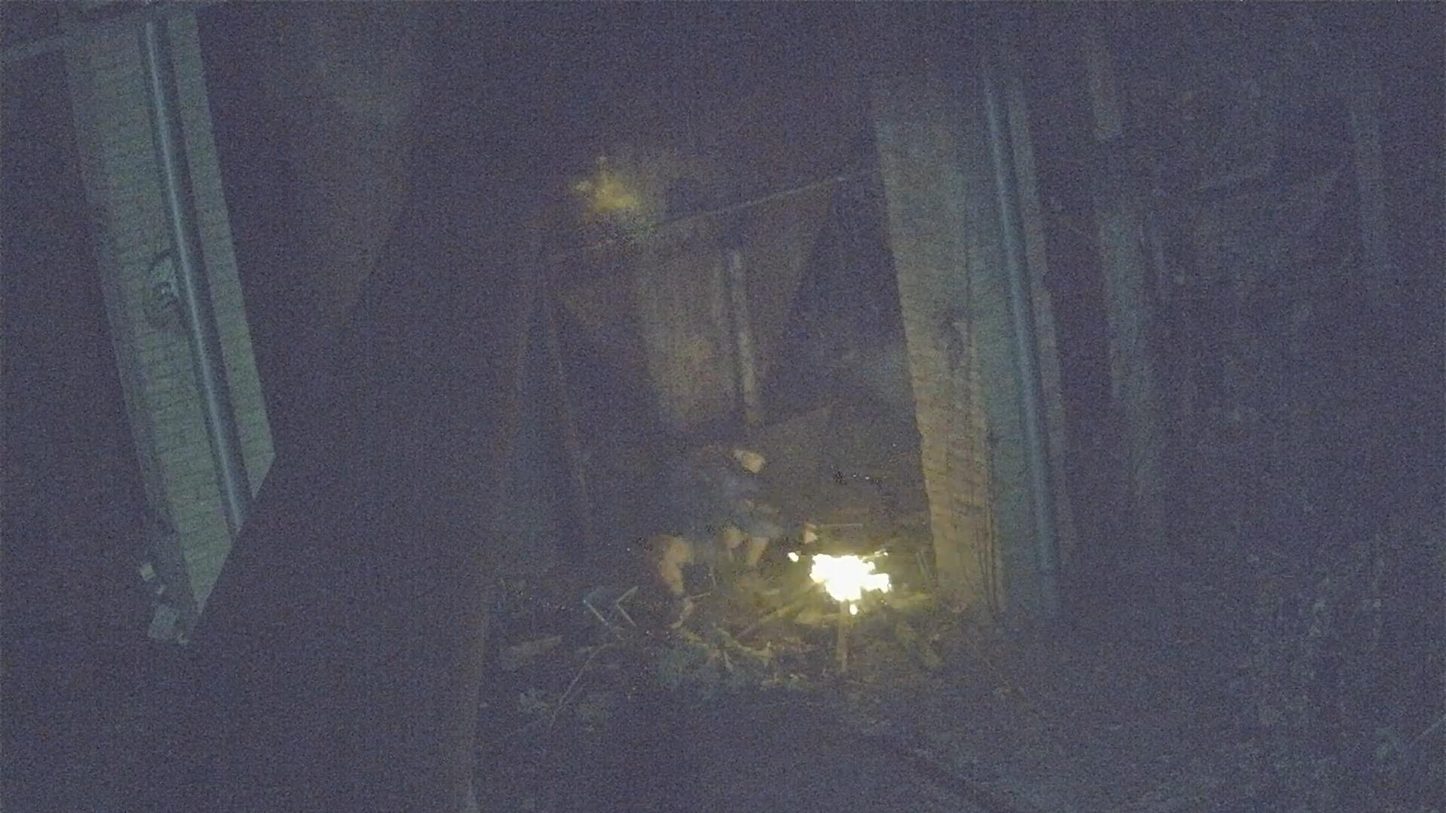fire: (810, 553, 889, 612)
